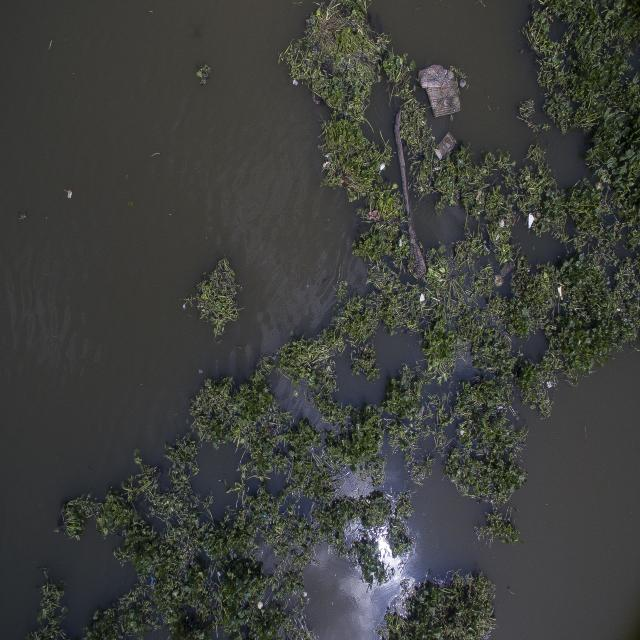Plastic: (417, 64, 464, 118), (434, 130, 457, 157)
